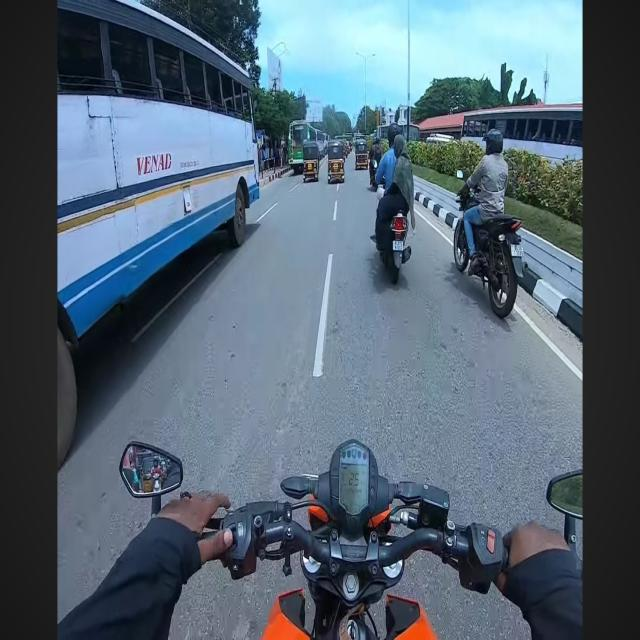bike: (451, 110, 537, 333), (372, 123, 422, 324)
no_helmet: (487, 117, 508, 160), (393, 129, 406, 157)
